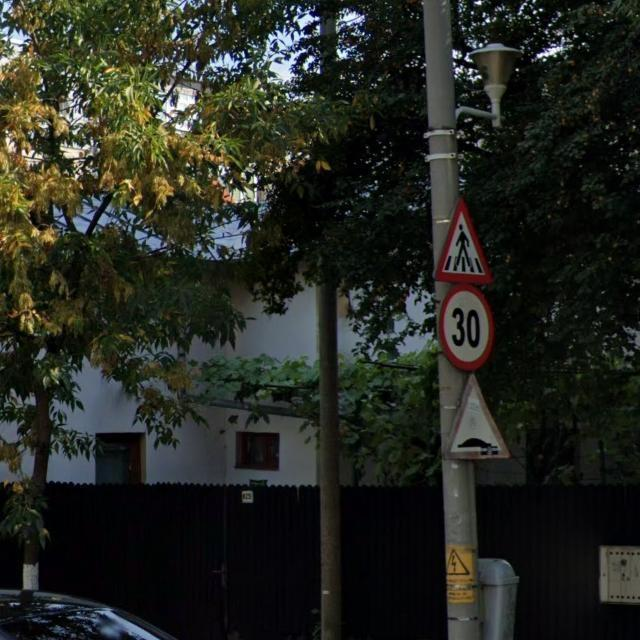forb_speed_over_30: (437, 284, 495, 375)
warn_crosswalk: (438, 197, 492, 286)
